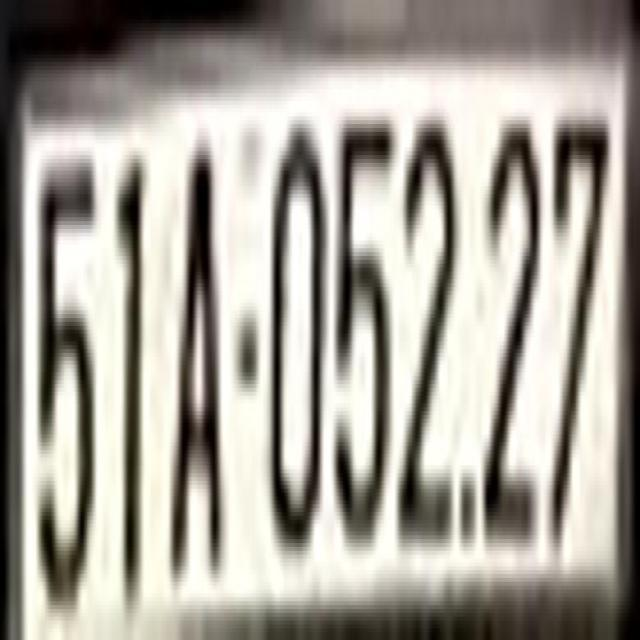0: (272, 128, 324, 562)
1: (116, 136, 152, 616)
2: (400, 97, 456, 539), (484, 109, 538, 544)
5: (38, 151, 96, 613), (336, 109, 391, 550)
7: (551, 93, 610, 570)
A: (168, 128, 226, 582)
